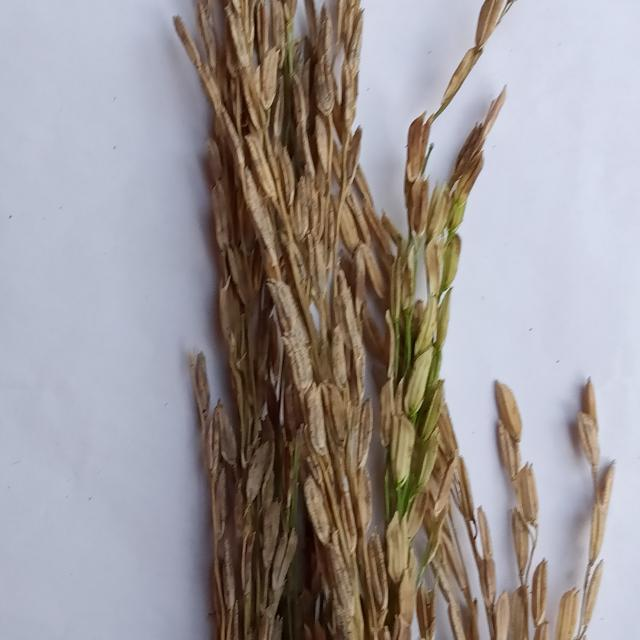Neck_Blast: (155, 0, 429, 640), (413, 381, 611, 640)
